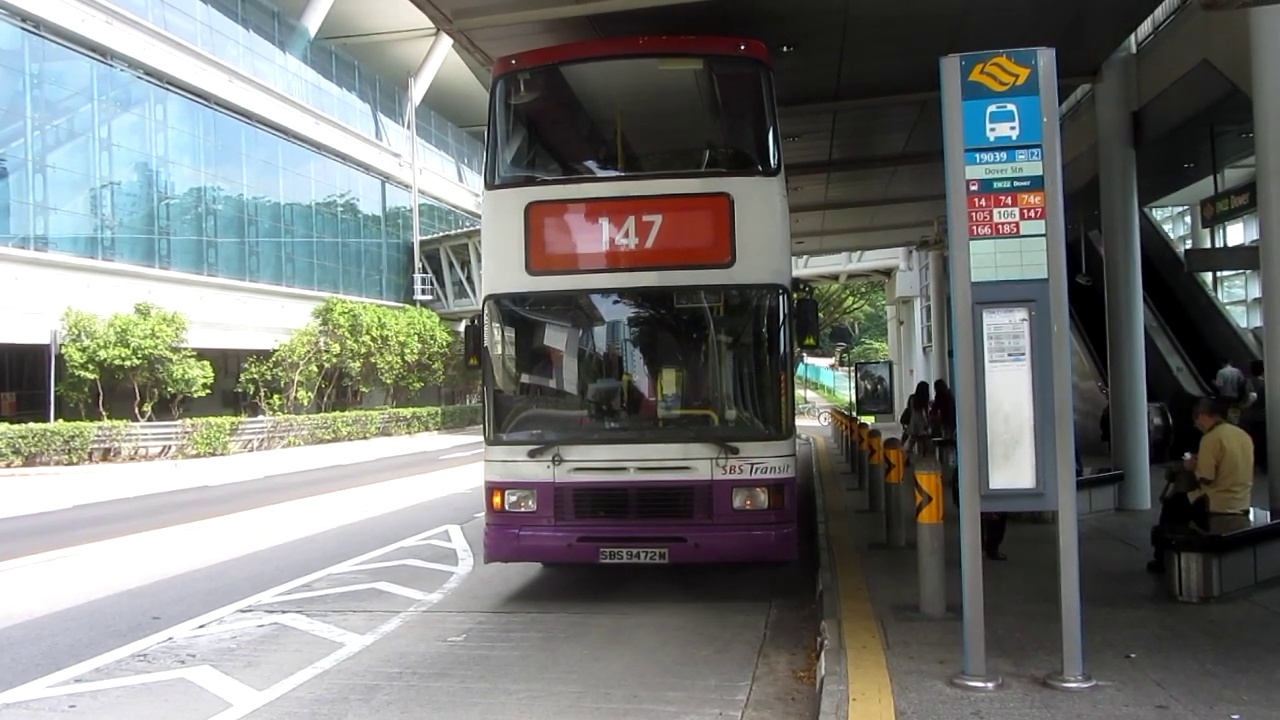bus panel: (519, 190, 740, 279)
